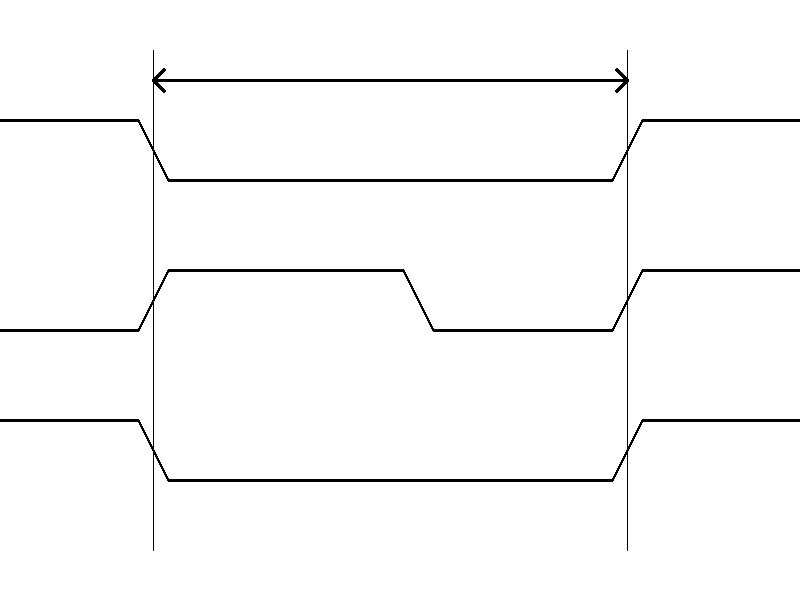double_arrow: (153, 65, 627, 95)
